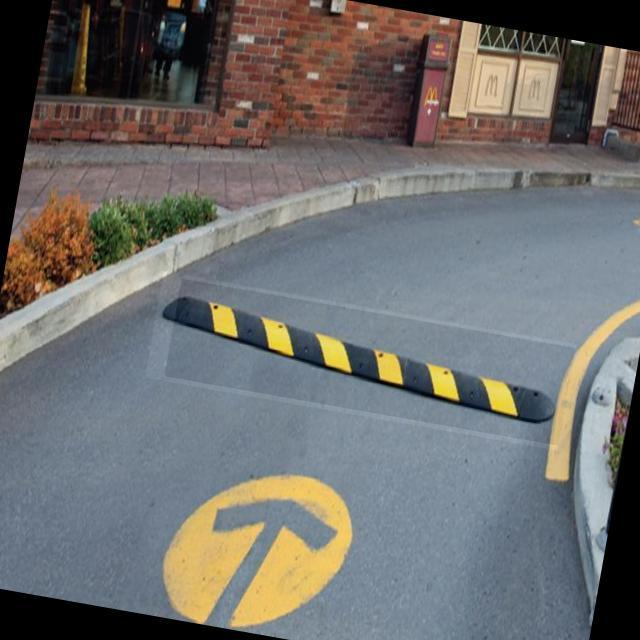speedbreaker: (164, 278, 575, 445)
